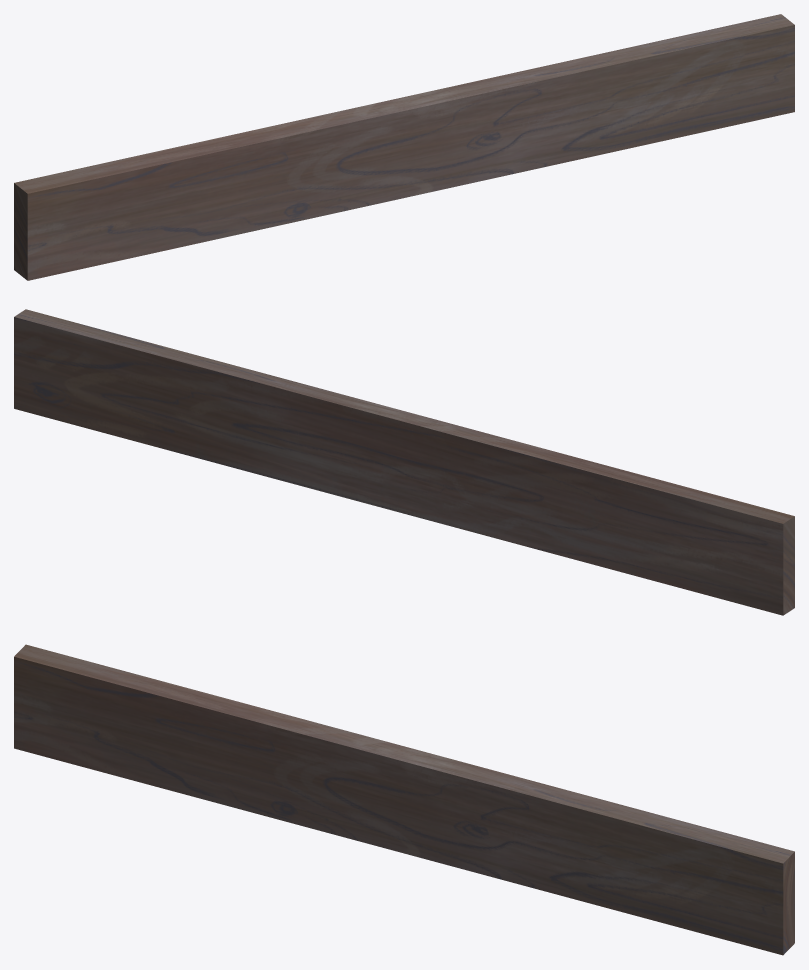
The model's file is long_board_017.fbx.
3 views of the same model, one above another, from view 1: azimuth 30°, elevation 25°; view 2: azimuth 150°, elevation 25°; view 3: azimuth 330°, elevation 25° (orthographic). The views are drawn at different scales.
Visible parts, largest first — view 1: long board.017; view 2: long board.017; view 3: long board.017.
Part boxes in pixels (x1,y1,x2,y2): long board.017: (14, 14, 794, 280); long board.017: (14, 309, 794, 615); long board.017: (14, 644, 794, 955).
Bounding box in the file's own units: 91.51 × 10.41 × 6.6.
